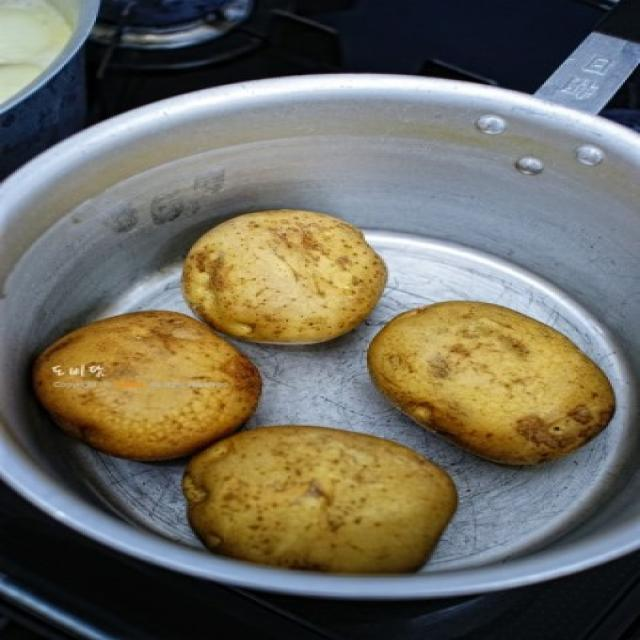potato: (181, 418, 468, 578), (371, 298, 619, 464), (30, 309, 256, 458), (178, 201, 386, 347)
